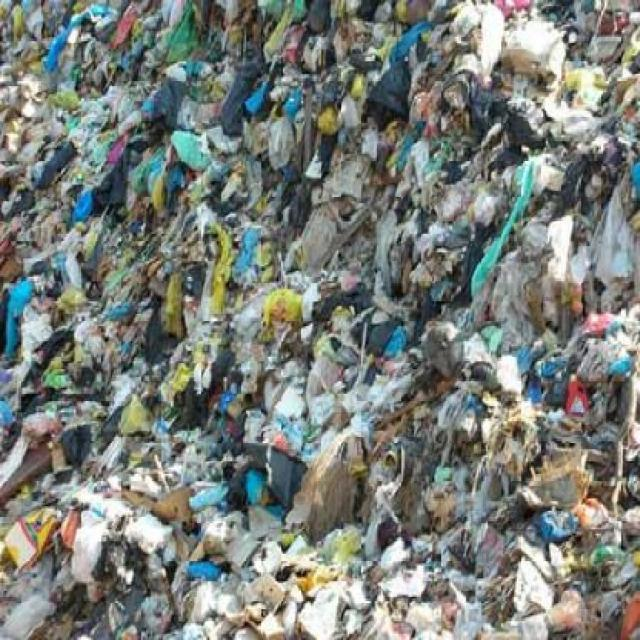garbage: (6, 5, 632, 626)
